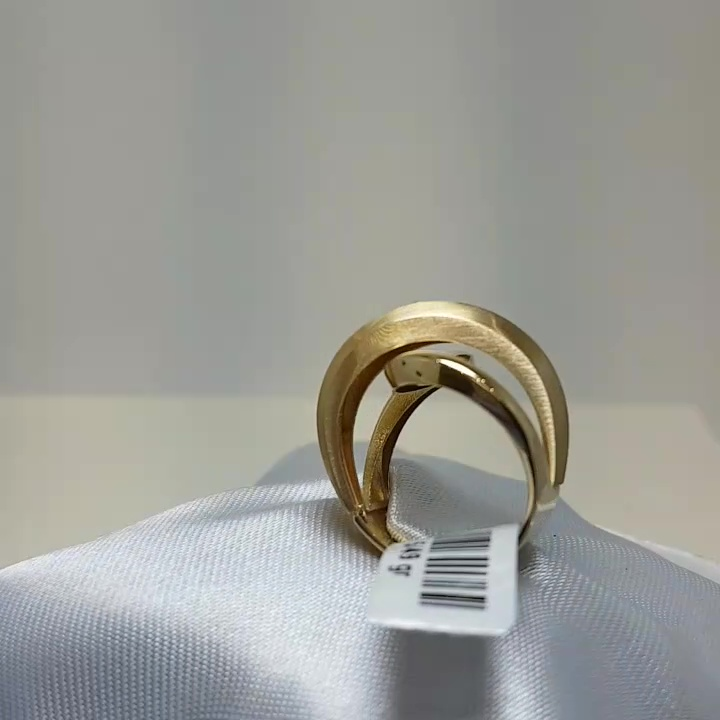Ring 3: (281, 269, 609, 594)
